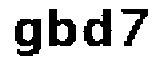7: (118, 5, 150, 47)
b: (45, 5, 78, 50)
d: (82, 7, 114, 50)
g: (11, 17, 41, 60)
